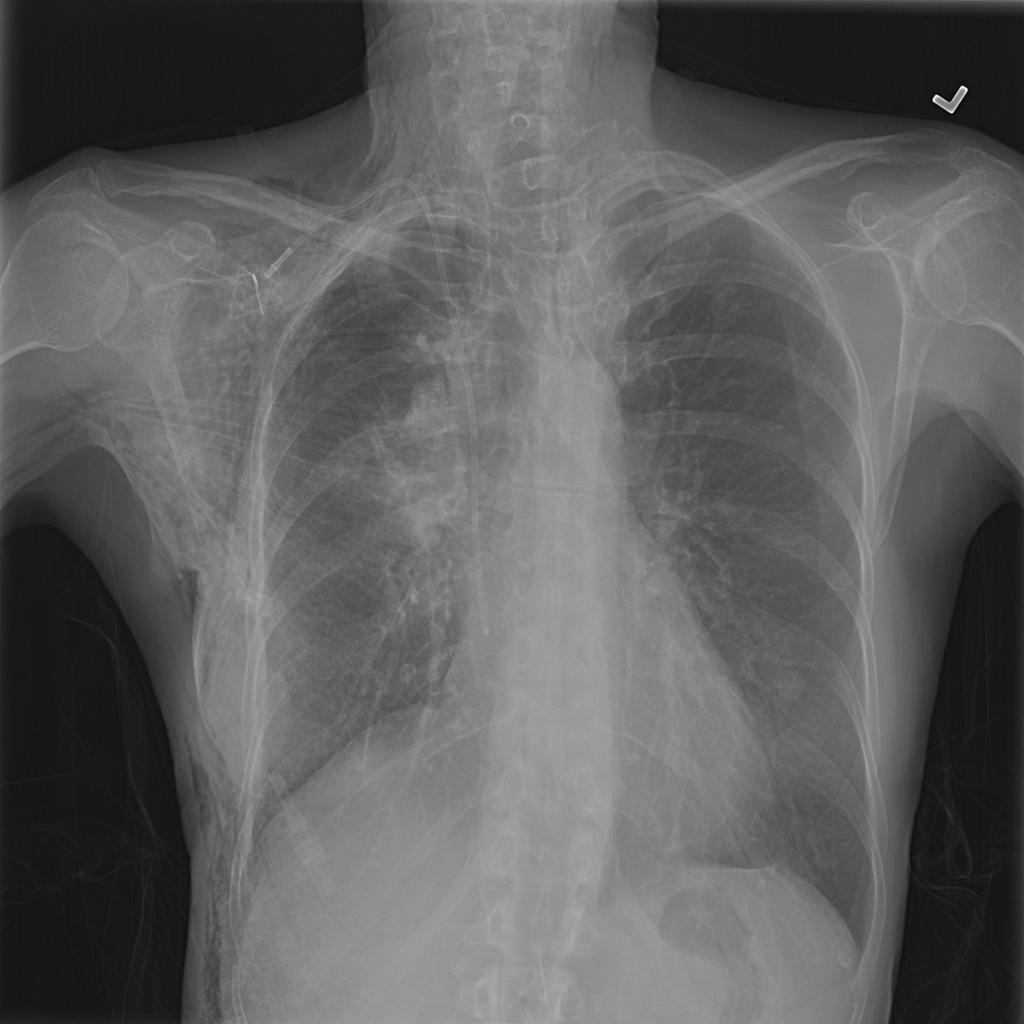nodule: (764, 658, 815, 712)
